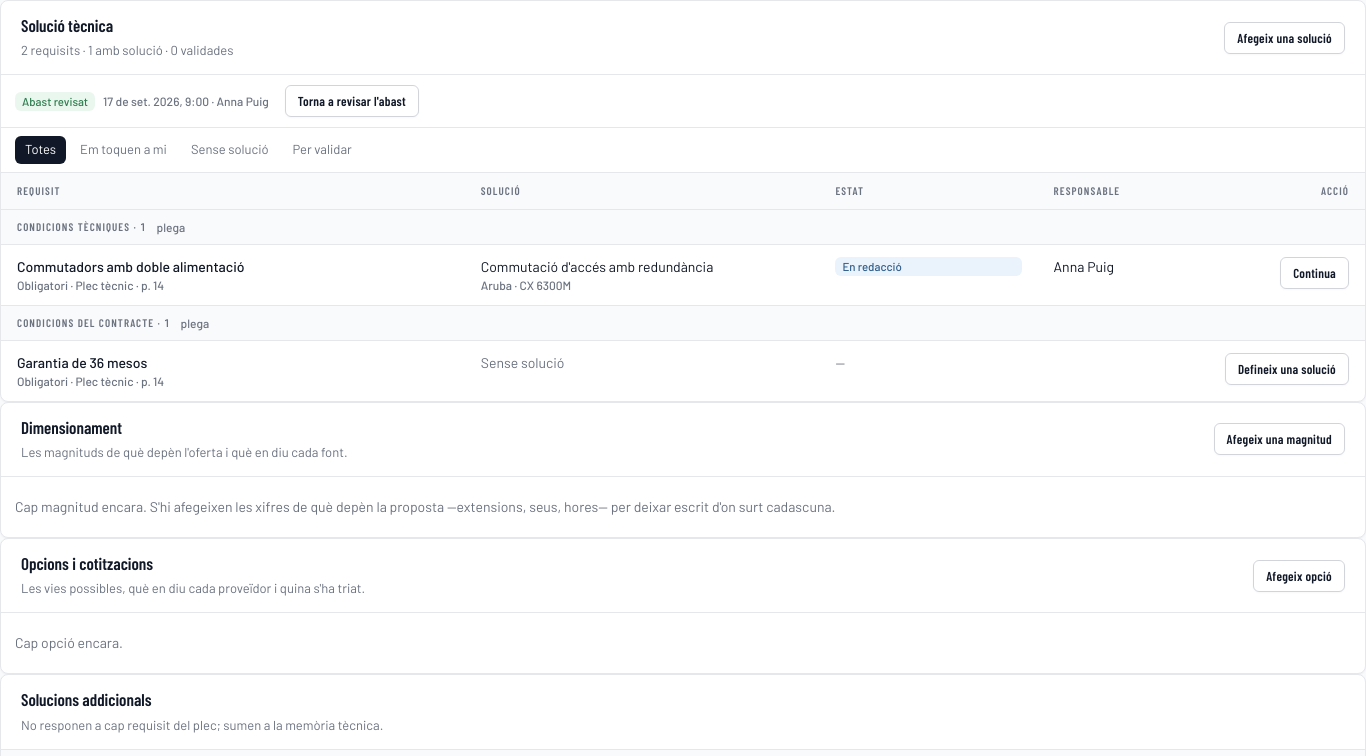
Scenario: Solució tècnica · creació › «Defineix una solució» crida from-requirement només amb l'id, refresca, obre la fila i invalida
The width and height of the screenshot is (1366, 756).
Click the button "Defineix una solució".
click(1287, 369)  # box [1225,353,1349,385]
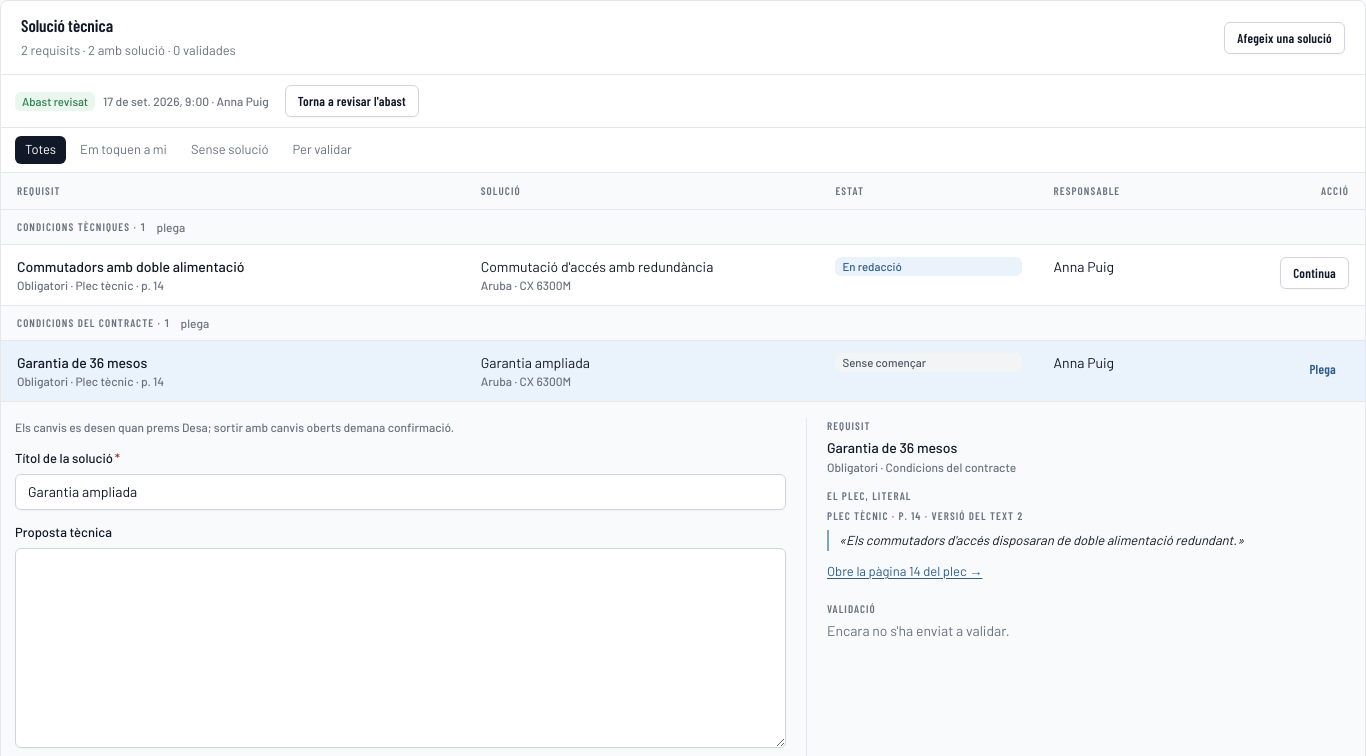
expect the field labelled "Títol de la solució*" holds "Garantia ampliada": met, box [15,474,786,510]
